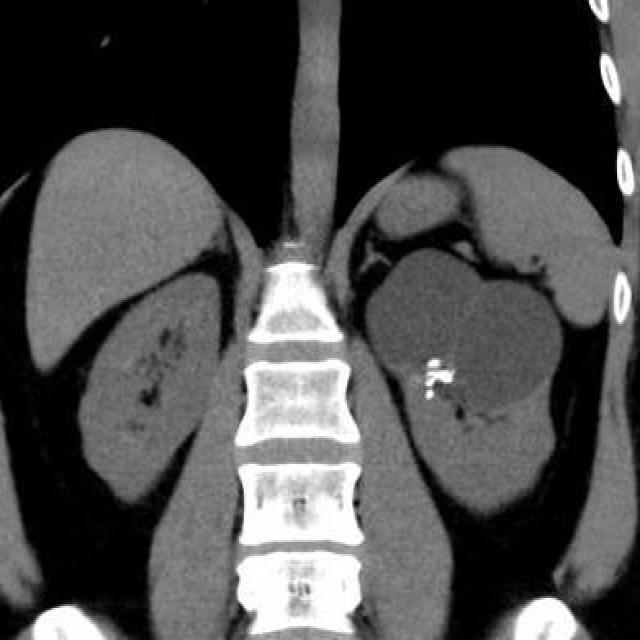Tas_Var: (432, 370, 458, 384), (426, 355, 443, 371), (424, 387, 437, 403), (423, 377, 438, 387), (428, 369, 436, 377)
